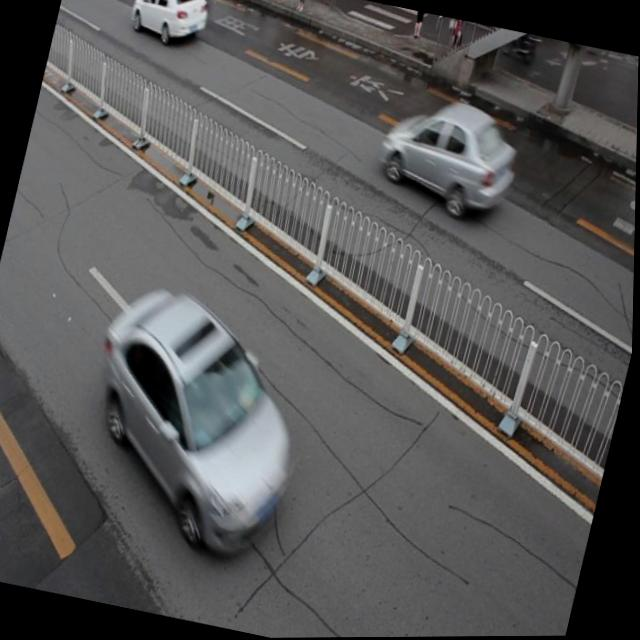car: (67, 278, 325, 561), (372, 87, 526, 221), (126, 0, 215, 50)
